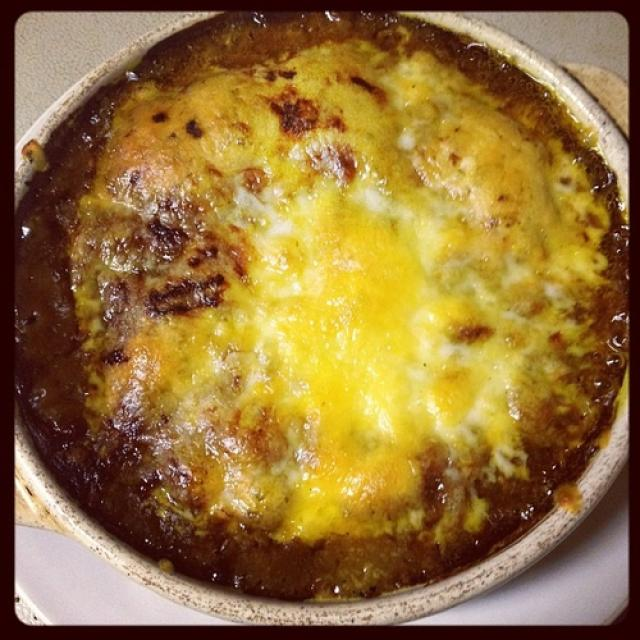米饭主食: (25, 16, 616, 592)
